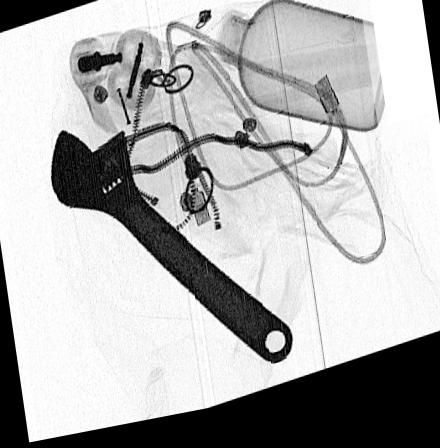Wrench: (46, 131, 295, 377)
